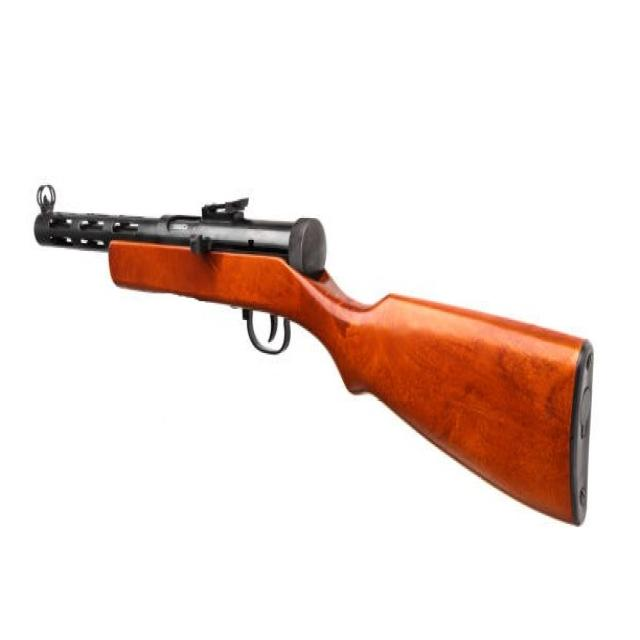rifle: (33, 183, 596, 535)
